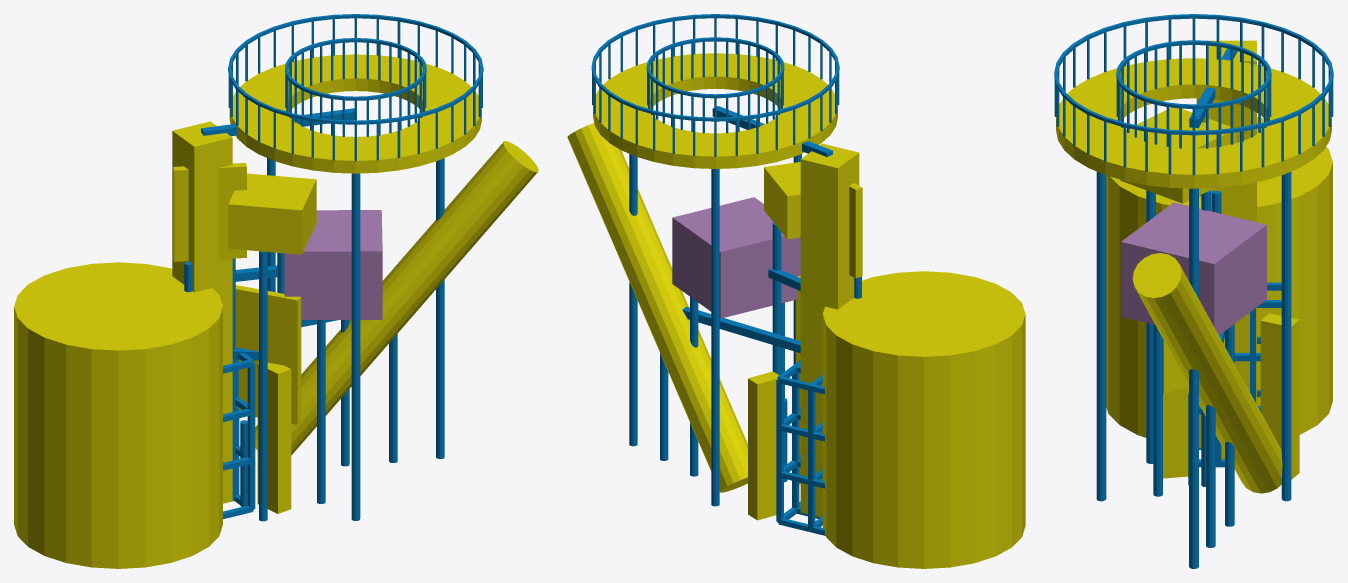
The model's file is folie_tag_109.glb.
The picture shows the model from 3 angles, left to right: view 1: azimuth 30°, elevation 25°; view 2: azimuth 150°, elevation 25°; view 3: azimuth 270°, elevation 25°; orthographic projection. The views are drawn at different scales.
Parts seen in each view (by area): view 1: folie_tag_109_00_drum, folie_tag_109_line, folie_tag_109_01_ring, folie_tag_109_05_tube, folie_tag_109_core, folie_tag_109_03_block, folie_tag_109_09_block, folie_tag_109_06_panel, folie_tag_109_10_fin, folie_tag_109_08_panel, folie_tag_109_04_cage; view 2: folie_tag_109_00_drum, folie_tag_109_line, folie_tag_109_01_ring, folie_tag_109_05_tube, folie_tag_109_core, folie_tag_109_03_block, folie_tag_109_04_cage, folie_tag_109_07_fin, folie_tag_109_09_block, folie_tag_109_08_panel; view 3: folie_tag_109_line, folie_tag_109_00_drum, folie_tag_109_01_ring, folie_tag_109_05_tube, folie_tag_109_03_block, folie_tag_109_07_fin, folie_tag_109_core, folie_tag_109_09_block, folie_tag_109_10_fin, folie_tag_109_04_cage, folie_tag_109_06_panel.
Boxes of the visible parts, x1,y1,x2,y2 form: folie_tag_109_00_drum: (14,262,222,568); folie_tag_109_line: (184,14,483,521); folie_tag_109_01_ring: (229,54,481,173); folie_tag_109_05_tube: (255,141,538,455); folie_tag_109_core: (172,121,232,503); folie_tag_109_03_block: (284,210,382,319); folie_tag_109_09_block: (228,173,316,254); folie_tag_109_06_panel: (235,285,301,424); folie_tag_109_10_fin: (257,362,291,513); folie_tag_109_08_panel: (173,162,246,261); folie_tag_109_04_cage: (223,353,255,519); folie_tag_109_00_drum: (822,271,1025,568); folie_tag_109_line: (591,14,861,506); folie_tag_109_01_ring: (593,53,837,168); folie_tag_109_05_tube: (567,123,747,492); folie_tag_109_core: (800,143,859,517); folie_tag_109_03_block: (672,197,800,318); folie_tag_109_04_cage: (776,360,825,535); folie_tag_109_07_fin: (748,371,778,520); folie_tag_109_09_block: (764,162,800,239); folie_tag_109_08_panel: (849,183,862,278); folie_tag_109_line: (1054,14,1333,568); folie_tag_109_00_drum: (1106,117,1332,448); folie_tag_109_01_ring: (1056,58,1331,188); folie_tag_109_05_tube: (1132,253,1282,493); folie_tag_109_03_block: (1121,202,1266,335); folie_tag_109_07_fin: (1260,313,1299,479); folie_tag_109_core: (1208,40,1256,459); folie_tag_109_09_block: (1120,107,1236,203); folie_tag_109_10_fin: (1163,386,1188,478); folie_tag_109_04_cage: (1199,282,1281,467); folie_tag_109_06_panel: (1163,337,1224,393).
Size of the model in its own units: 13.83 by 11.34 by 6.36.
